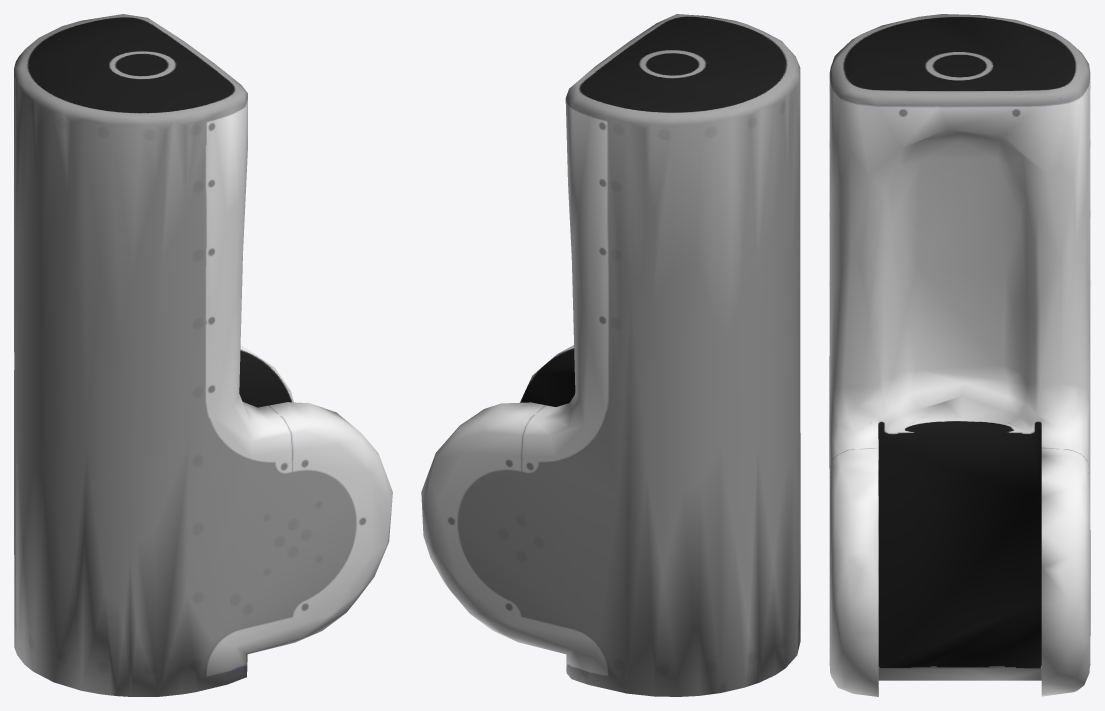
Rendered from shoulder_pan.obj.
3 renders of one model, left to right at view 1: azimuth 30°, elevation 25°; view 2: azimuth 150°, elevation 25°; view 3: azimuth 270°, elevation 25°, orthographic.
Visible parts, largest first — view 1: SM_shoulder_pan_M; view 2: SM_shoulder_pan_M; view 3: SM_shoulder_pan_M.
Boxes of the visible parts, x1,y1,x2,y2 form: SM_shoulder_pan_M: (14,14,392,696); SM_shoulder_pan_M: (421,14,800,696); SM_shoulder_pan_M: (829,14,1090,696).
Bounding box in the file's own units: 0.3536 × 0.6329 × 0.2543.
1 material, 1 textured.
